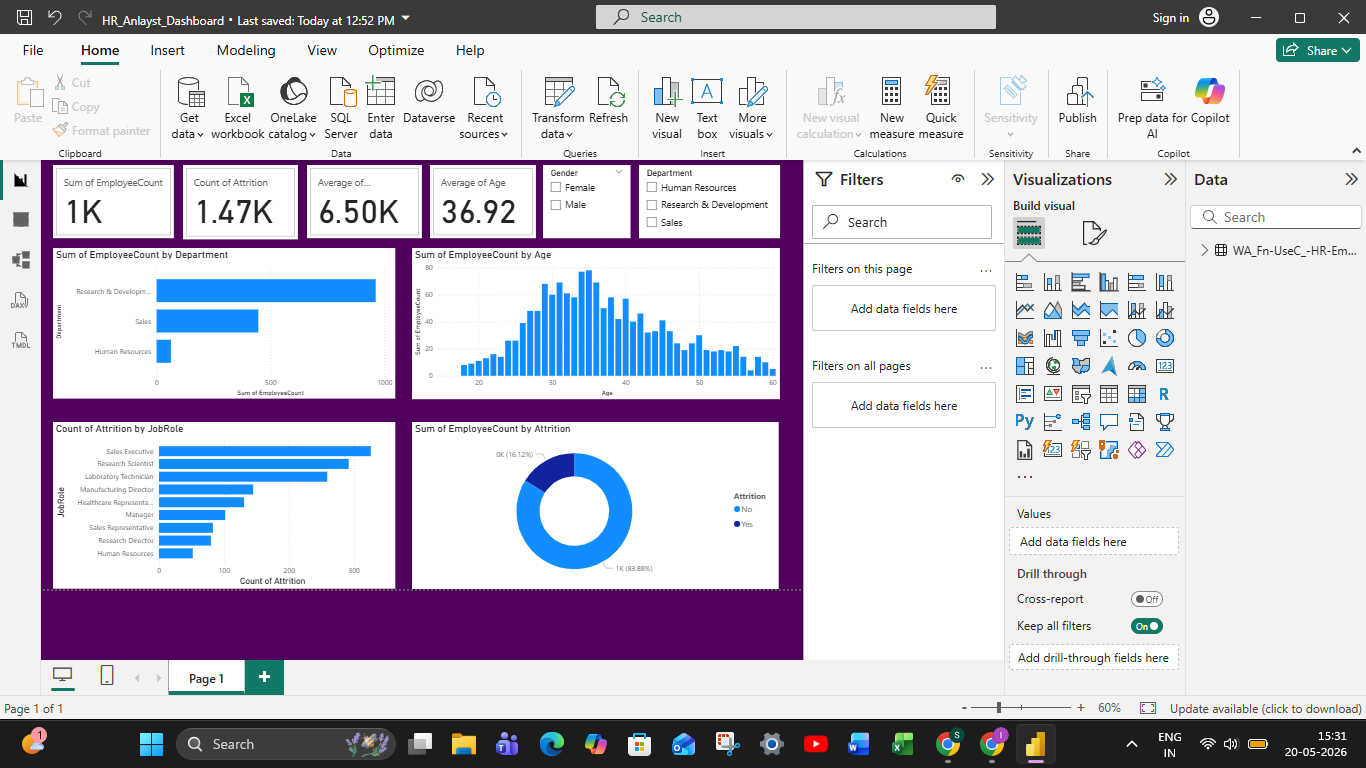

The page's visual inventory and layout, read from the dashboard file:
{"tool":"powerbi","page":{"name":"Page 1","canvas":[1280,720],"ordinal":0},"visuals":[{"type":"cardVisual","fields":{"Data":["Sum(WA_Fn-UseC_-HR-Employee-Attriti.EmployeeCount)"]},"box":[20,8.3,203.3,123.3],"z":0},{"type":"cardVisual","fields":{"Data":["CountNonNull(WA_Fn-UseC_-HR-Employee-Attriti.Attrition)"]},"box":[238.3,8.3,193.3,125],"z":1000},{"type":"clusteredBarChart","fields":{"Category":["WA_Fn-UseC_-HR-Employee-Attriti.Department"],"Y":["Sum(WA_Fn-UseC_-HR-Employee-Attriti.EmployeeCount)"]},"box":[20,148.3,575,253.3],"z":2000},{"type":"cardVisual","fields":{"Data":["Avg(WA_Fn-UseC_-HR-Employee-Attriti.MonthlyIncome)"]},"box":[446.7,8.3,193.3,123.3],"z":3000},{"type":"cardVisual","fields":{"Data":["Avg(WA_Fn-UseC_-HR-Employee-Attriti.Age)"]},"box":[653.3,8.3,178.3,123.3],"z":4000},{"type":"donutChart","fields":{"Category":["WA_Fn-UseC_-HR-Employee-Attriti.Attrition"],"Y":["Sum(WA_Fn-UseC_-HR-Employee-Attriti.EmployeeCount)"]},"box":[623.2,440.1,616.5,280.5],"z":5000},{"type":"clusteredBarChart","fields":{"Category":["WA_Fn-UseC_-HR-Employee-Attriti.JobRole"],"Y":["CountNonNull(WA_Fn-UseC_-HR-Employee-Attriti.Attrition)"]},"box":[20,440,575,280],"z":6000},{"type":"columnChart","fields":{"Category":["WA_Fn-UseC_-HR-Employee-Attriti.Age"],"Y":["Sum(WA_Fn-UseC_-HR-Employee-Attriti.EmployeeCount)"]},"box":[623.2,147.8,618.2,253.6],"z":7000},{"type":"slicer","fields":{"Values":["WA_Fn-UseC_-HR-Employee-Attriti.Gender"]},"box":[843.3,8.3,146.7,123.3],"z":8000},{"type":"slicer","fields":{"Values":["WA_Fn-UseC_-HR-Employee-Attriti.Department"]},"box":[1005,8.3,236.7,123.3],"z":9000}]}

Visuals, with their boxes on the page's 1280x720 design canvas (x1, y1, x2, y2). These are canvas units, not pixel positions in the 1366x768 screenshot, which may show the page scaled, cropped or inside an application window:
cardVisual - Sum(WA_Fn-UseC_-HR-Employee-Attriti.EmployeeCount): <bbox>20, 8, 223, 132</bbox>
cardVisual - CountNonNull(WA_Fn-UseC_-HR-Employee-Attriti.Attrition): <bbox>238, 8, 432, 133</bbox>
clusteredBarChart - WA_Fn-UseC_-HR-Employee-Attriti.Department x Sum(WA_Fn-UseC_-HR-Employee-Attriti.EmployeeCount): <bbox>20, 148, 595, 402</bbox>
cardVisual - Avg(WA_Fn-UseC_-HR-Employee-Attriti.MonthlyIncome): <bbox>447, 8, 640, 132</bbox>
cardVisual - Avg(WA_Fn-UseC_-HR-Employee-Attriti.Age): <bbox>653, 8, 832, 132</bbox>
donutChart - WA_Fn-UseC_-HR-Employee-Attriti.Attrition x Sum(WA_Fn-UseC_-HR-Employee-Attriti.EmployeeCount): <bbox>623, 440, 1240, 721</bbox>
clusteredBarChart - WA_Fn-UseC_-HR-Employee-Attriti.JobRole x CountNonNull(WA_Fn-UseC_-HR-Employee-Attriti.Attrition): <bbox>20, 440, 595, 720</bbox>
columnChart - WA_Fn-UseC_-HR-Employee-Attriti.Age x Sum(WA_Fn-UseC_-HR-Employee-Attriti.EmployeeCount): <bbox>623, 148, 1241, 401</bbox>
slicer - WA_Fn-UseC_-HR-Employee-Attriti.Gender: <bbox>843, 8, 990, 132</bbox>
slicer - WA_Fn-UseC_-HR-Employee-Attriti.Department: <bbox>1005, 8, 1242, 132</bbox>
